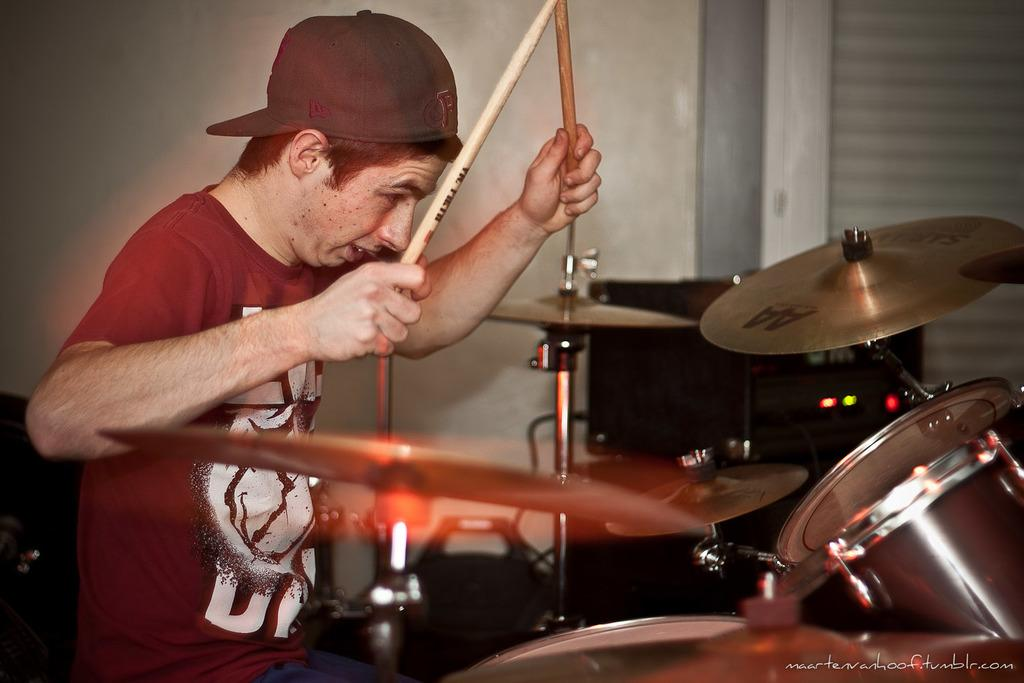Hat: (204, 4, 460, 148)
